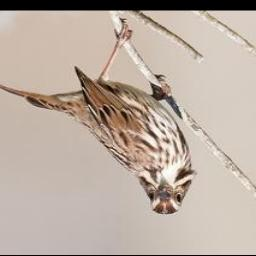Sparrow: (0, 17, 200, 217)
